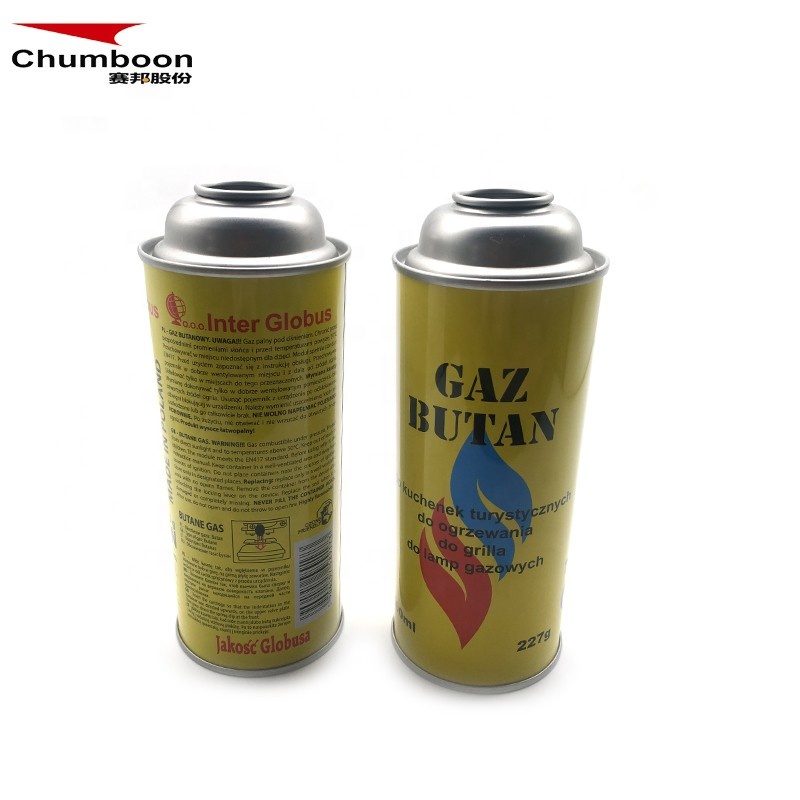Aerosol_cans: (386, 181, 612, 696), (134, 175, 354, 681)
